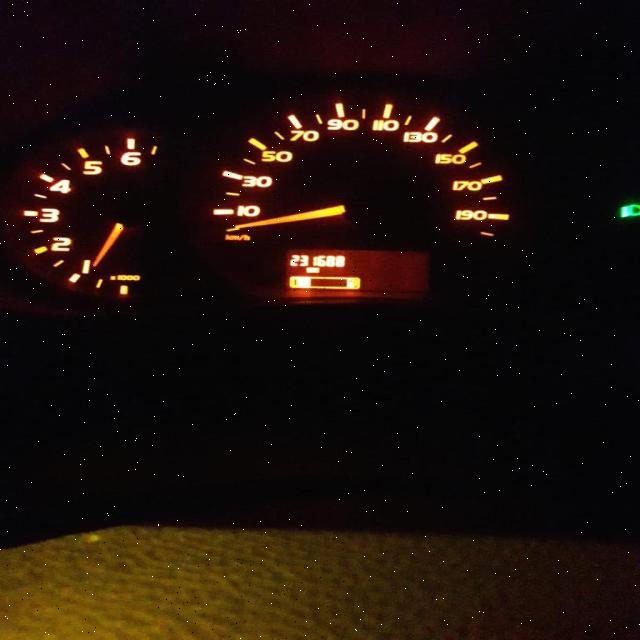odometer: (284, 248, 430, 296)
